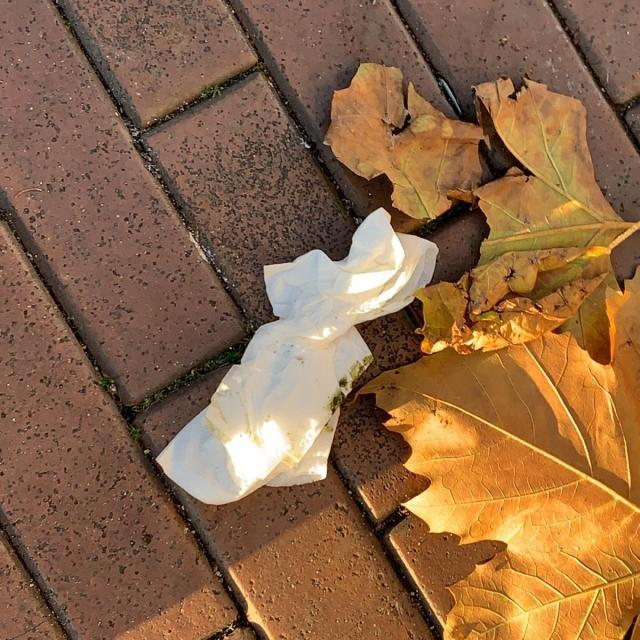Paper: (153, 206, 439, 507)
